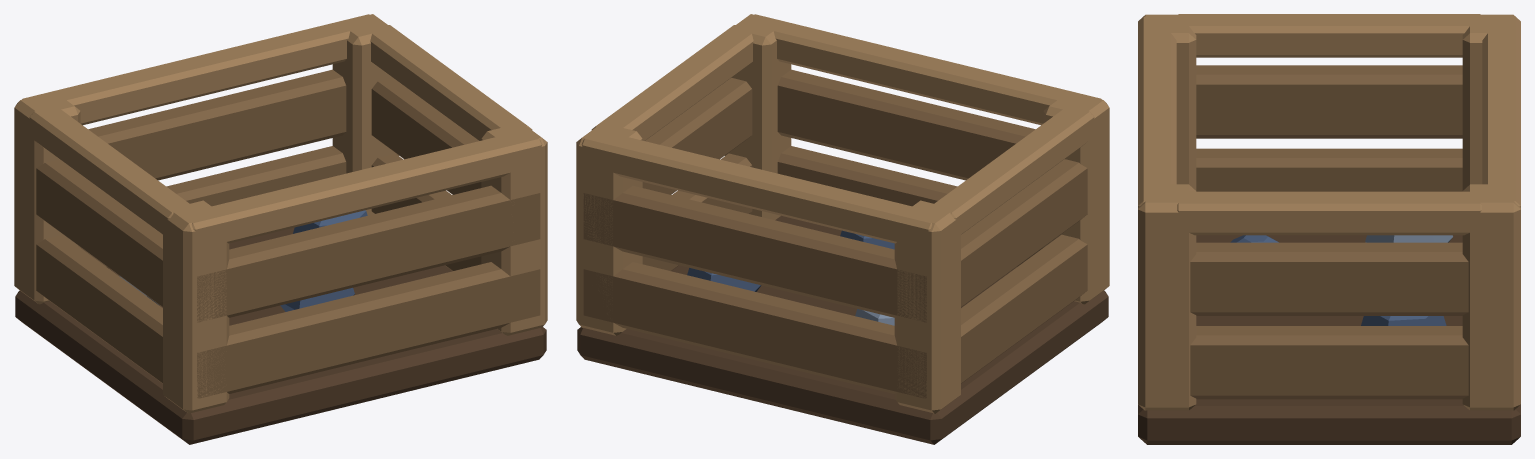
Rendered from juniper_berry_low.glb.
The picture shows the model from 3 angles, left to right: view 1: azimuth 30°, elevation 25°; view 2: azimuth 150°, elevation 25°; view 3: azimuth 270°, elevation 25°; orthographic projection. The views are drawn at different scales.
Parts seen in each view (by area): view 1: juniper_berry_low; view 2: juniper_berry_low; view 3: juniper_berry_low.
Boxes of the visible parts, bbox=[...] form: juniper_berry_low: bbox=[14, 14, 547, 444]; juniper_berry_low: bbox=[576, 14, 1109, 444]; juniper_berry_low: bbox=[1138, 14, 1520, 444].
Bounding box in the file's own units: 0.75 × 0.4375 × 0.625.
